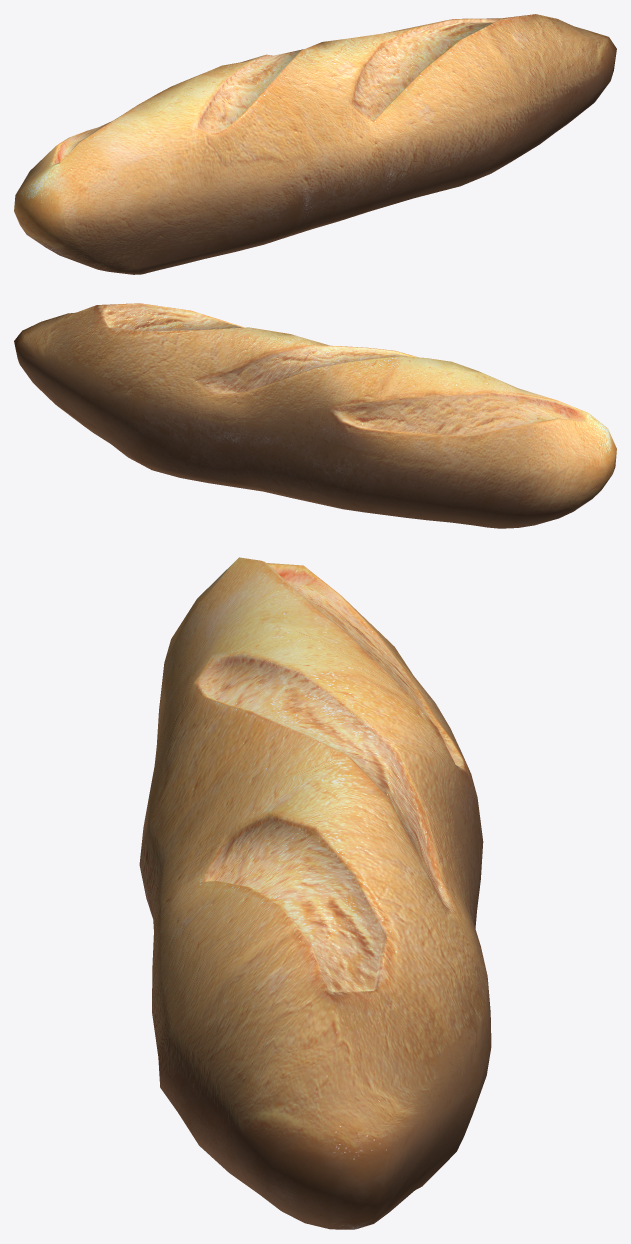
File: bread.glb
3 views of the same model, one above another, from view 1: azimuth 30°, elevation 25°; view 2: azimuth 150°, elevation 25°; view 3: azimuth 270°, elevation 25° (orthographic). The views are drawn at different scales.
Visible parts, largest first — view 1: Plane; view 2: Plane; view 3: Plane.
Boxes of the visible parts, x1,y1,x2,y2 form: Plane: (14,14,616,274); Plane: (14,303,616,528); Plane: (139,557,491,1229).
Bounding box in the file's own units: 4.21 × 0.9858 × 1.12.
Materials: 1 (1 with a texture image).
